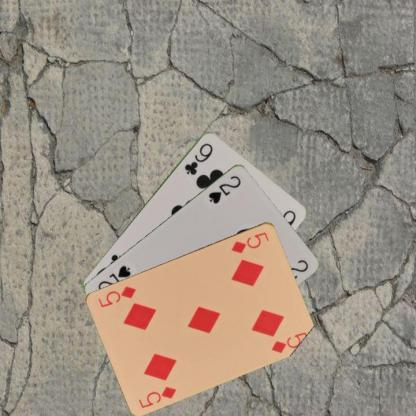2s: (206, 172, 242, 205)
5d: (228, 228, 271, 254), (136, 383, 178, 409)
9c: (181, 140, 214, 176)
